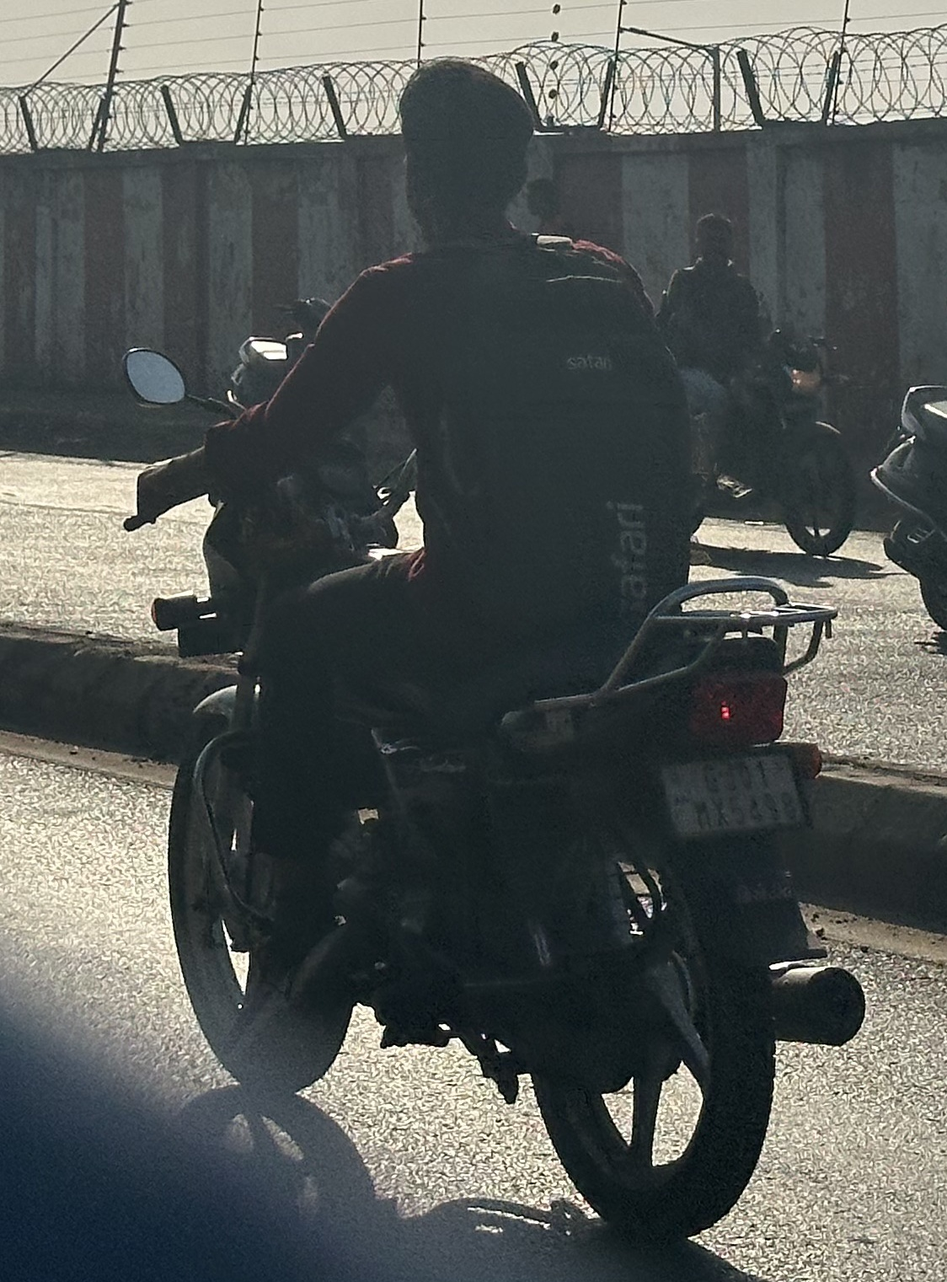BikeWithRider: (103, 53, 875, 1263), (634, 192, 884, 565)
NoHelmet: (381, 58, 561, 228), (670, 197, 764, 284)
